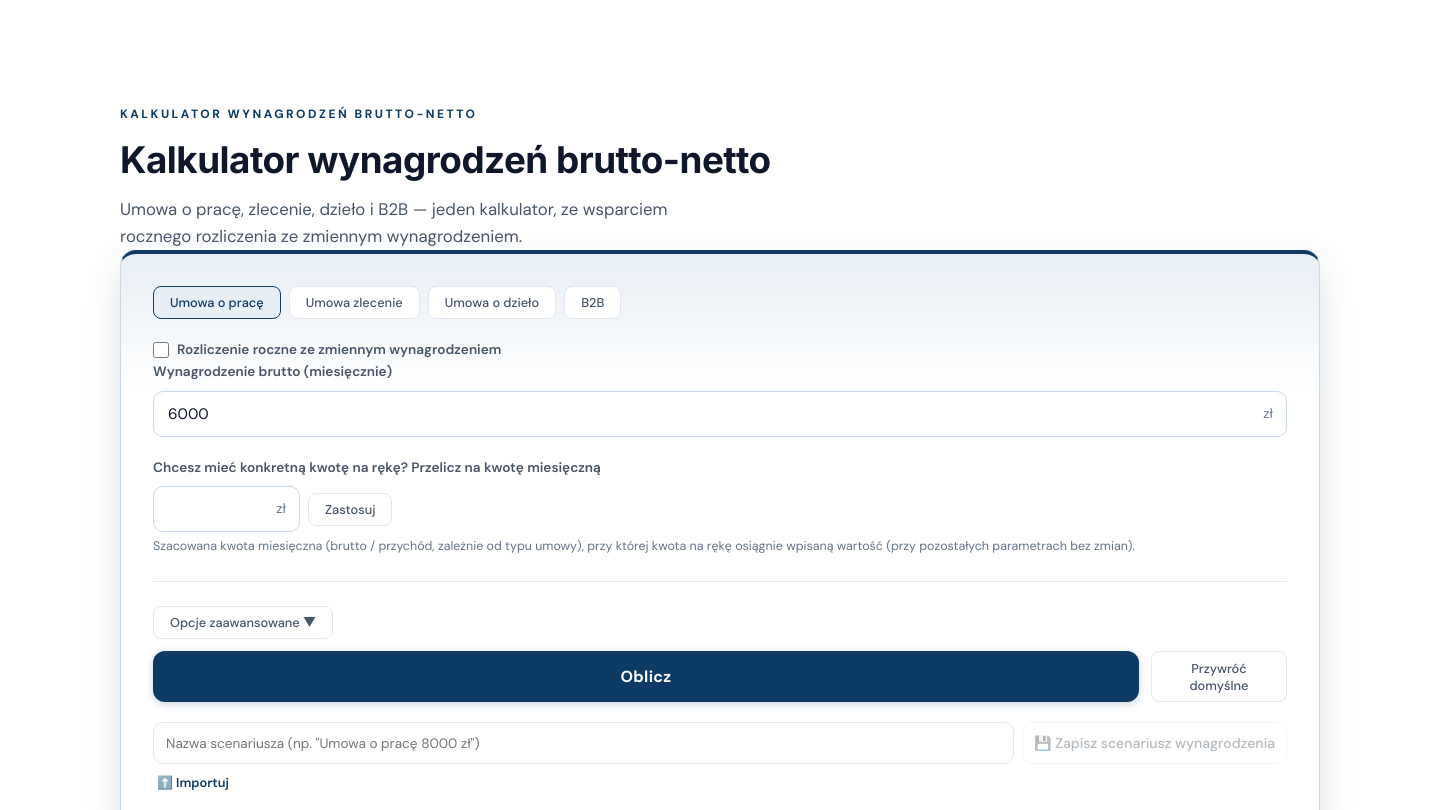
Test: SalaryCalculator print button (render) › regression: a "Drukuj / Zapisz PDF" button appears once a result exists, matching the mortgage and creditworthiness calculators — the salary calculator previous
The image size is (1440, 810).
Expected: the button "drukuj" is not shown
Click the button "Oblicz" at (646, 677), box [153, 651, 1139, 702]
(page scrolled)
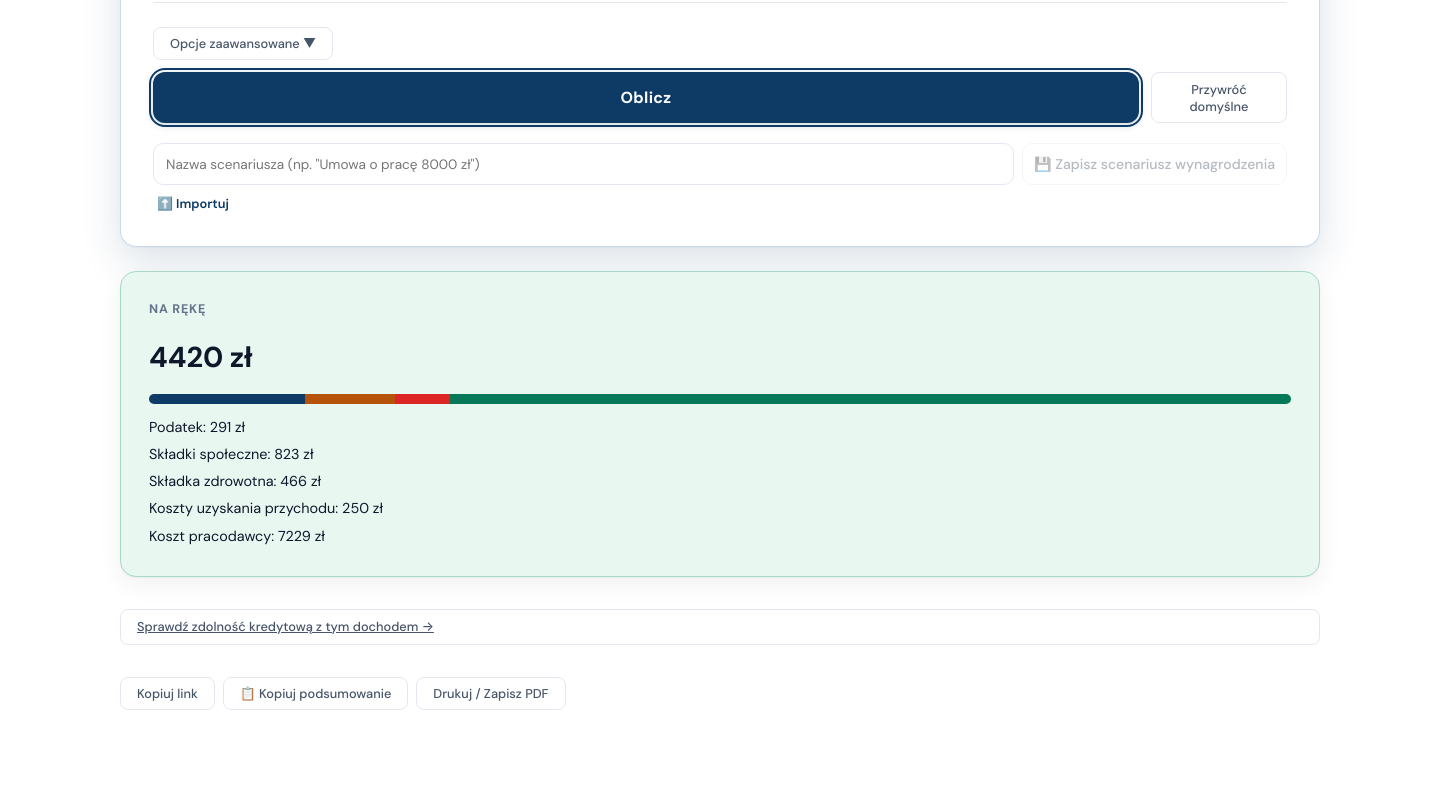
Expected: the button "Drukuj / Zapisz PDF" is shown, [416, 677, 566, 710]
